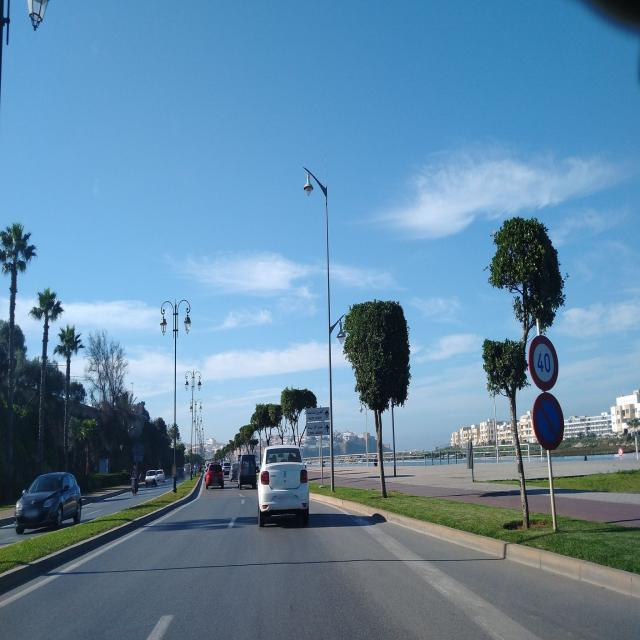forb_stopping: (530, 389, 565, 451)
